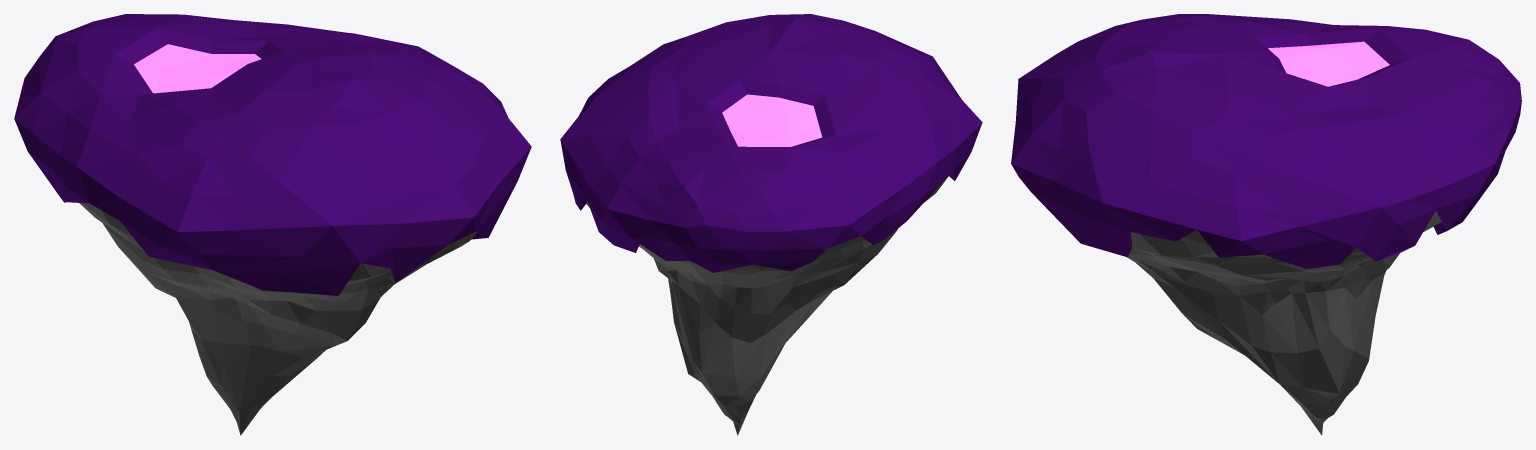
File: Floating Island 1.fbx
3 views of the same model, side by side, from view 1: azimuth 30°, elevation 25°; view 2: azimuth 150°, elevation 25°; view 3: azimuth 270°, elevation 25° (orthographic). The views are drawn at different scales.
Visible parts, largest first — view 1: Icosphere.001; view 2: Icosphere.001; view 3: Icosphere.001.
Part boxes in pixels (x1,y1,x2,y2): Icosphere.001: [14, 14, 531, 435]; Icosphere.001: [560, 14, 982, 435]; Icosphere.001: [1011, 14, 1521, 435].
Bounding box in the file's own units: 941 × 900 × 1057.
